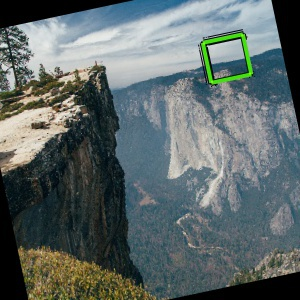square: (196, 28, 258, 87)
